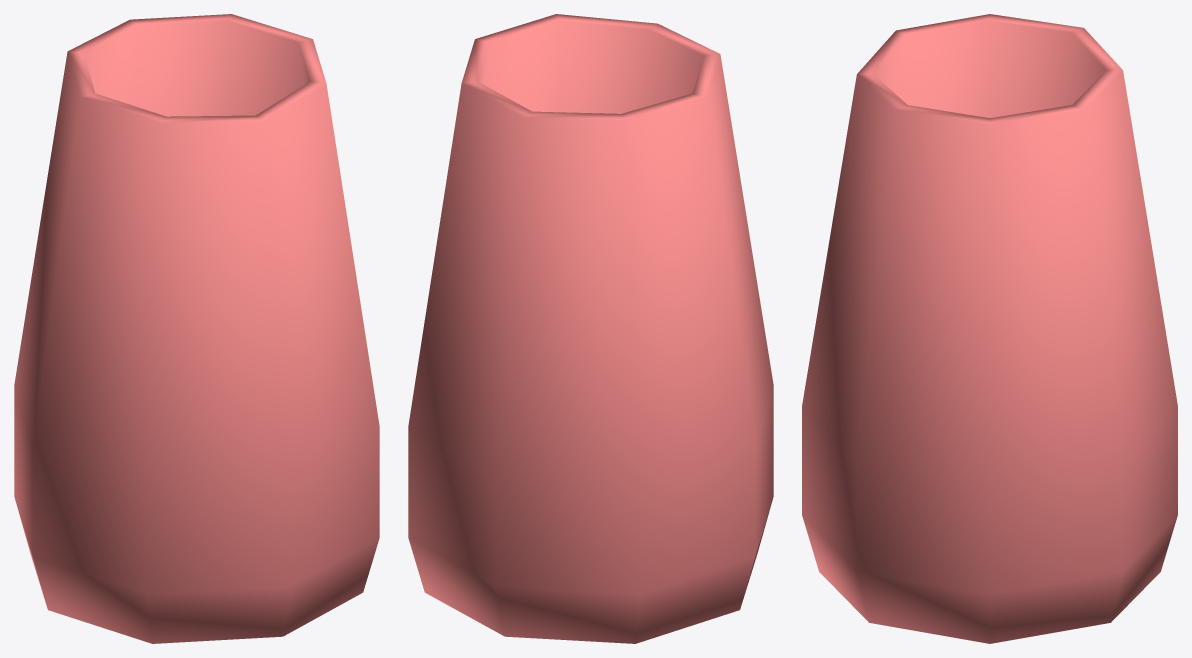
The model's file is Vase.fbx.
The picture shows the model from 3 angles, left to right: view 1: azimuth 30°, elevation 25°; view 2: azimuth 150°, elevation 25°; view 3: azimuth 270°, elevation 25°; orthographic projection.
Visible parts, largest first — view 1: Cylinder.1277; view 2: Cylinder.1277; view 3: Cylinder.1277.
Boxes of the visible parts, <box> form: Cylinder.1277: <box>14,14,379,643</box>; Cylinder.1277: <box>408,14,773,643</box>; Cylinder.1277: <box>802,14,1177,643</box>.
Size of the model in its own units: 37.91 by 57.98 by 37.91.
Materials: 1 (1 with a texture image).
